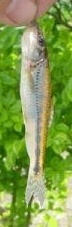Gobio gobio: (20, 20, 52, 207)
